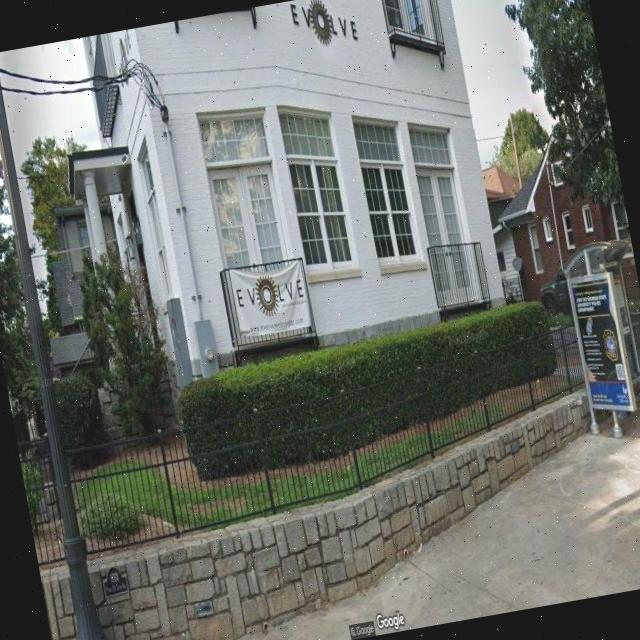seating: (629, 368, 640, 405)
shelter: (557, 232, 640, 444)
